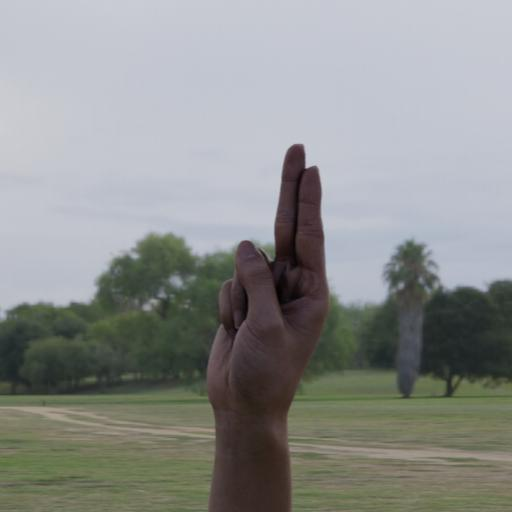U: (193, 139, 343, 460)
